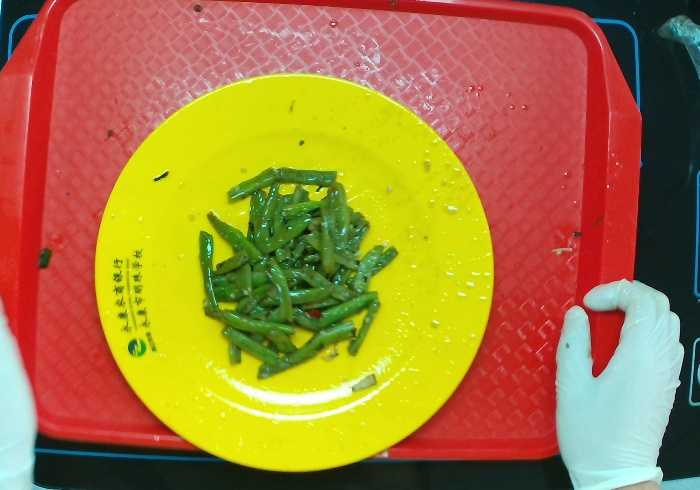YKMZ-Huang_Se_Mian_Pan: (90, 68, 492, 477)
